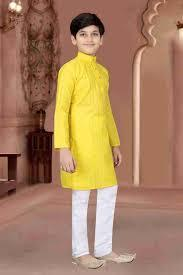Human: (50, 11, 143, 267)
